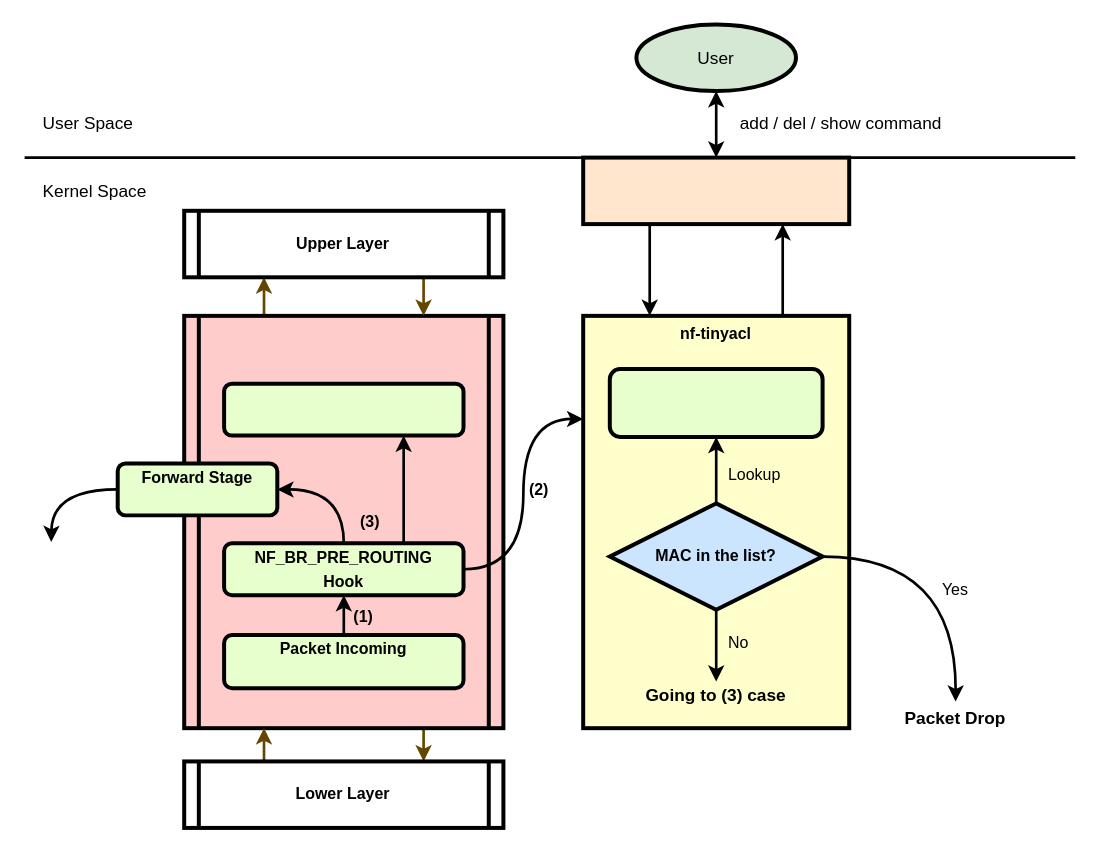
This 1100x853 diagram has some shape labels left out. The box of each missing label's shape, as (x1, y1, x2, y2) in pixels:
Bridge Layer: (182, 313, 505, 730)
debugfs: (581, 155, 851, 225)
Deny List Hashtable: (607, 366, 824, 438)
Pass to upper layer: (221, 381, 465, 437)
